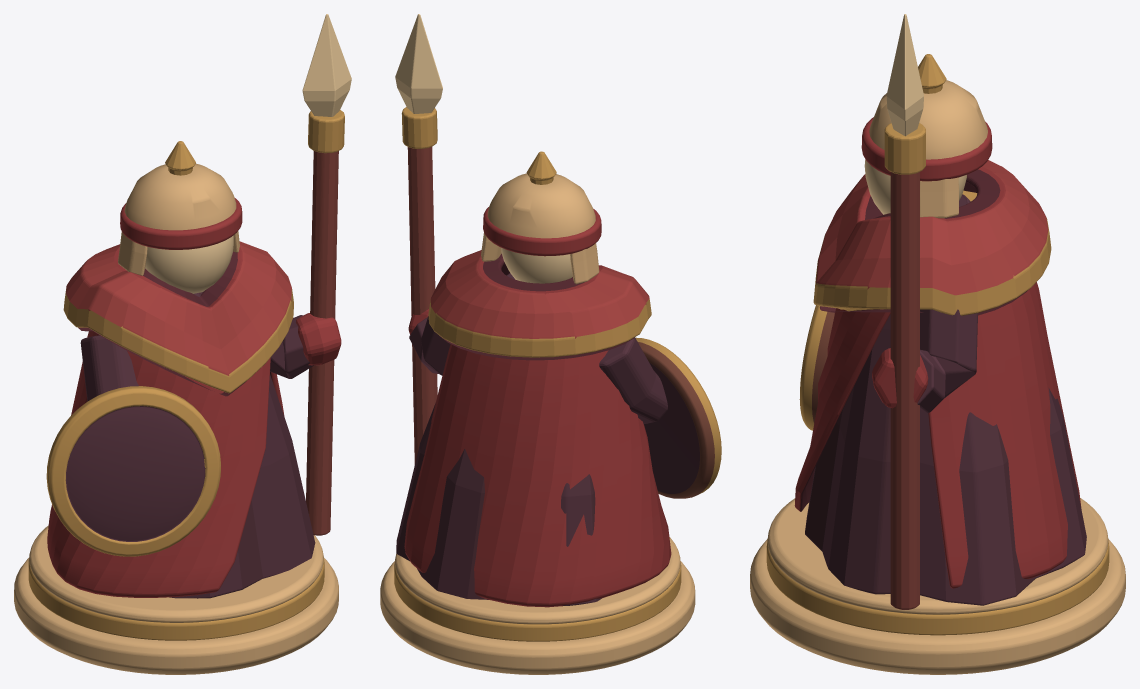
The model's file is spearman.glb.
3 views of the same model, side by side, from view 1: azimuth 30°, elevation 25°; view 2: azimuth 150°, elevation 25°; view 3: azimuth 270°, elevation 25° (orthographic). The views are drawn at different scales.
Visible parts, largest first — view 1: Shield | turned gilt rim and painted face, Mantle | folded shoulders and gilded V, Overrobe | diagonal lap, Plinth | turned maple foot.001, Undertunic | cut folds.001, Spear | lacquered pole, Plinth | maple seat.001, Helmet | maple dome, Plinth | gold leaf band.001, Head | blank ivory maple.001, Spear | carved leaf point, Helmet | painted brow band (+6 smaller); view 2: Overrobe | diagonal lap, Mantle | folded shoulders and gilded V, Plinth | turned maple foot.001, Undertunic | cut folds.001, Shield | turned gilt rim and painted face, Plinth | maple seat.001, Spear | lacquered pole, Helmet | maple dome, Plinth | gold leaf band.001, Shield arm | sleeve, Spear | carved leaf point, Helmet | painted brow band (+5 smaller); view 3: Undertunic | cut folds.001, Overrobe | diagonal lap, Mantle | folded shoulders and gilded V, Plinth | turned maple foot.001, Spear | lacquered pole, Plinth | maple seat.001, Plinth | gold leaf band.001, Spear arm | sleeve, Helmet | maple dome, Spear | carved leaf point, Shield | turned gilt rim and painted face, Helmet | painted brow band (+5 smaller).
Boxes of the visible parts, bbox=[...] form: Shield | turned gilt rim and painted face: bbox=[46, 386, 220, 556]; Mantle | folded shoulders and gilded V: bbox=[63, 241, 293, 396]; Overrobe | diagonal lap: bbox=[47, 331, 284, 597]; Plinth | turned maple foot.001: bbox=[14, 557, 338, 674]; Undertunic | cut folds.001: bbox=[169, 291, 315, 598]; Spear | lacquered pole: bbox=[306, 151, 338, 535]; Plinth | maple seat.001: bbox=[29, 525, 323, 622]; Helmet | maple dome: bbox=[124, 163, 236, 230]; Plinth | gold leaf band.001: bbox=[28, 558, 324, 640]; Head | blank ivory maple.001: bbox=[145, 235, 233, 293]; Spear | carved leaf point: bbox=[302, 14, 351, 116]; Helmet | painted brow band: bbox=[120, 198, 242, 249]; Overrobe | diagonal lap: bbox=[404, 344, 671, 607]; Mantle | folded shoulders and gilded V: bbox=[428, 250, 651, 360]; Plinth | turned maple foot.001: bbox=[380, 561, 695, 674]; Undertunic | cut folds.001: bbox=[396, 273, 601, 605]; Shield | turned gilt rim and painted face: bbox=[635, 337, 721, 498]; Plinth | maple seat.001: bbox=[395, 537, 680, 624]; Spear | lacquered pole: bbox=[407, 147, 437, 464]; Helmet | maple dome: bbox=[487, 173, 595, 238]; Plinth | gold leaf band.001: bbox=[394, 562, 681, 641]; Shield arm | sleeve: bbox=[599, 338, 667, 424]; Spear | carved leaf point: bbox=[395, 14, 442, 113]; Helmet | painted brow band: bbox=[483, 207, 601, 256]; Undertunic | cut folds.001: bbox=[805, 194, 1086, 605]; Overrobe | diagonal lap: bbox=[794, 282, 1081, 588]; Mantle | folded shoulders and gilded V: bbox=[813, 160, 1051, 315]; Plinth | turned maple foot.001: bbox=[750, 539, 1125, 674]; Spear | lacquered pole: bbox=[890, 172, 919, 609]; Plinth | maple seat.001: bbox=[767, 498, 1108, 614]; Plinth | gold leaf band.001: bbox=[766, 540, 1109, 635]; Spear arm | sleeve: bbox=[917, 309, 977, 412]; Helmet | maple dome: bbox=[869, 80, 987, 159]; Spear | carved leaf point: bbox=[886, 14, 923, 136]; Shield | turned gilt rim and painted face: bbox=[799, 305, 834, 430]; Helmet | painted brow band: bbox=[861, 117, 992, 181].
Size of the model in its own units: 1.87 by 3.21 by 1.65.
